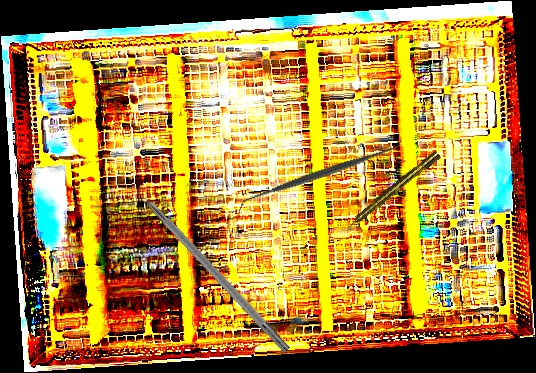Handpiece: (343, 149, 442, 233)
Hook Surgical: (125, 175, 293, 354)
Spatula Surgical: (233, 136, 407, 213)
